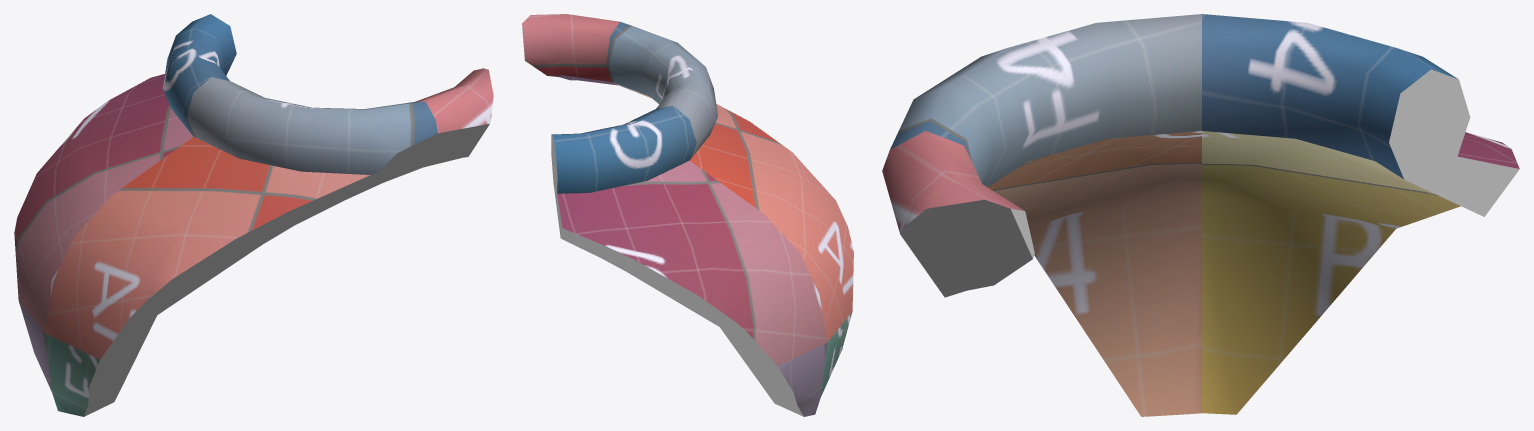
File: SmallVase_SHAT_cell_003.fbx
The picture shows the model from 3 angles, left to right: view 1: azimuth 30°, elevation 25°; view 2: azimuth 150°, elevation 25°; view 3: azimuth 270°, elevation 25°; orthographic projection. The views are drawn at different scales.
Parts seen in each view (by area): view 1: SmallVase_SHAT_cell_003; view 2: SmallVase_SHAT_cell_003; view 3: SmallVase_SHAT_cell_003.
Boxes of the visible parts, bbox=[...] form: SmallVase_SHAT_cell_003: bbox=[14, 14, 493, 416]; SmallVase_SHAT_cell_003: bbox=[522, 14, 853, 416]; SmallVase_SHAT_cell_003: bbox=[882, 14, 1519, 416].
Bounding box in the file's own units: 0.6868 × 0.5062 × 0.5603.
Materials: 2 (1 with a texture image).
